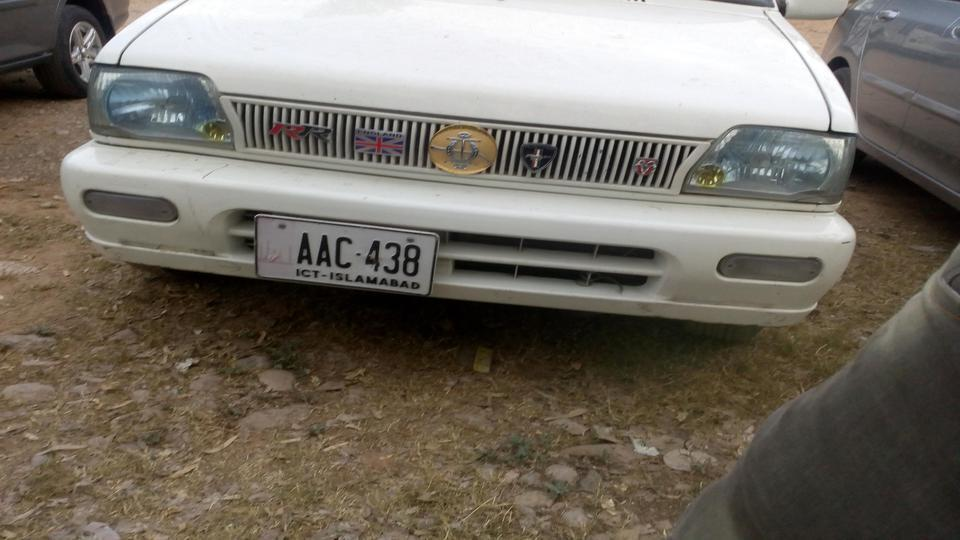NumberPlate: (256, 212, 440, 297)
